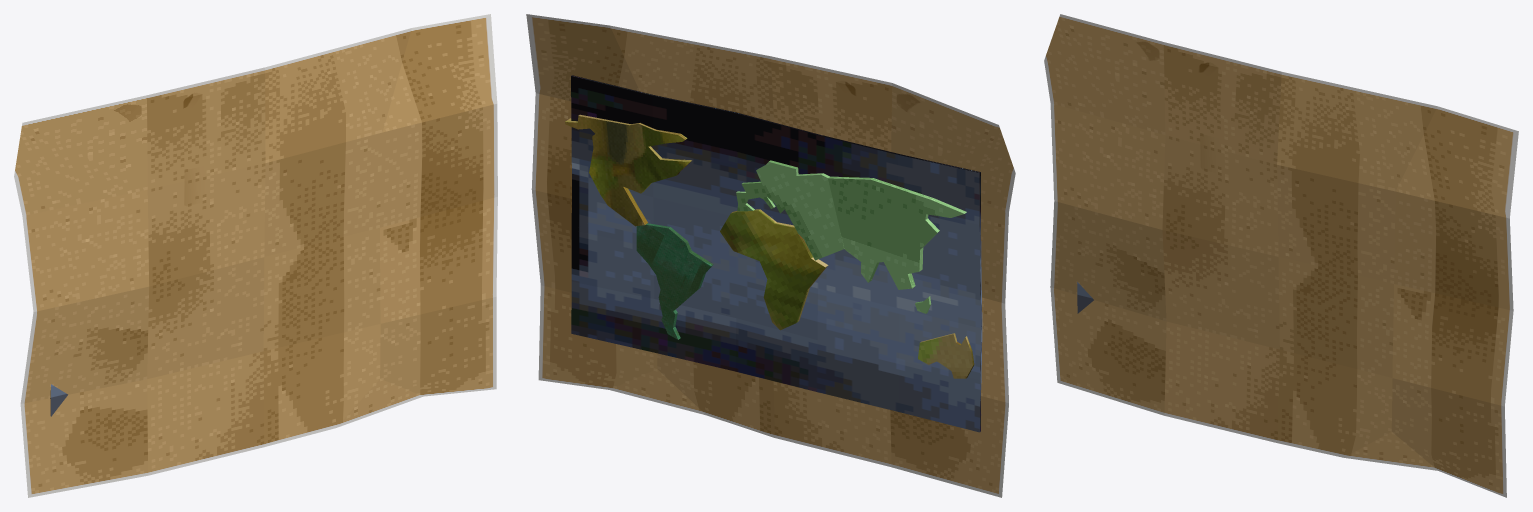
File: Mappa_Mondo.fbx
3 renders of one model, left to right at view 1: azimuth 30°, elevation 25°; view 2: azimuth 150°, elevation 25°; view 3: azimuth 330°, elevation 25°, orthographic. The views are drawn at different scales.
Visible parts, largest first — view 1: Plane.009; view 2: Plane.009; view 3: Plane.009.
Boxes of the visible parts, bbox=[...] form: Plane.009: bbox=[14, 14, 497, 497]; Plane.009: bbox=[526, 14, 1015, 497]; Plane.009: bbox=[1044, 14, 1518, 497].
Size of the model in its own units: 2.07 by 1.56 by 0.0922.
Materials: 5 (5 with a texture image).
